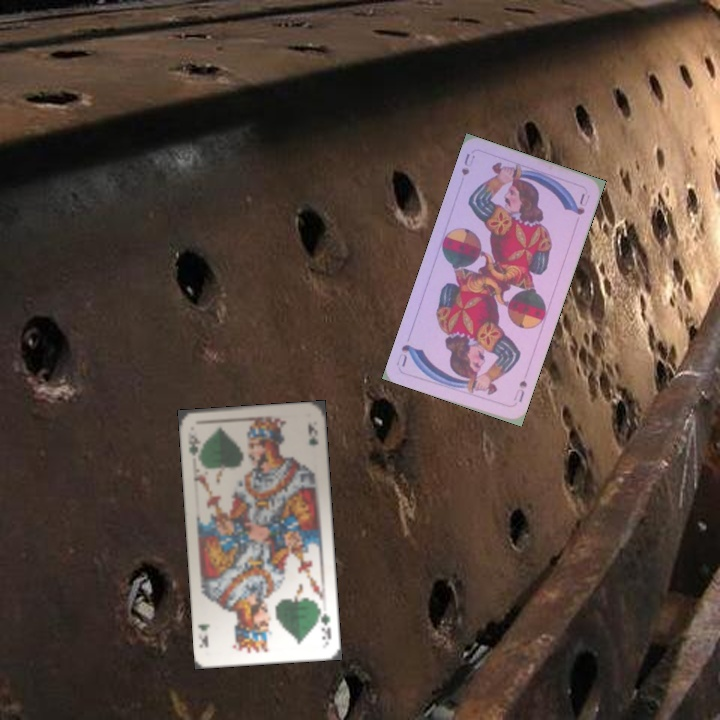GK: (315, 604, 334, 643), (183, 431, 202, 458)
SU: (509, 376, 530, 405), (457, 149, 477, 178)
